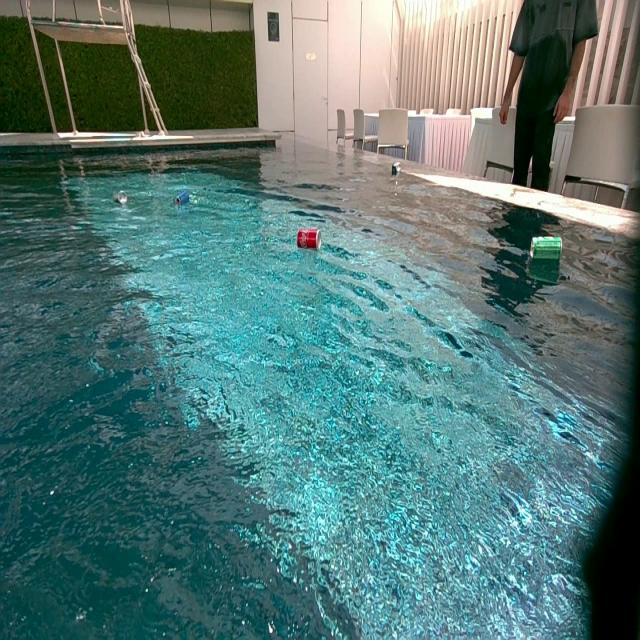Cans: (529, 235, 561, 264), (296, 229, 322, 252), (174, 188, 192, 205), (113, 190, 127, 204), (116, 193, 130, 207), (390, 163, 400, 176)
